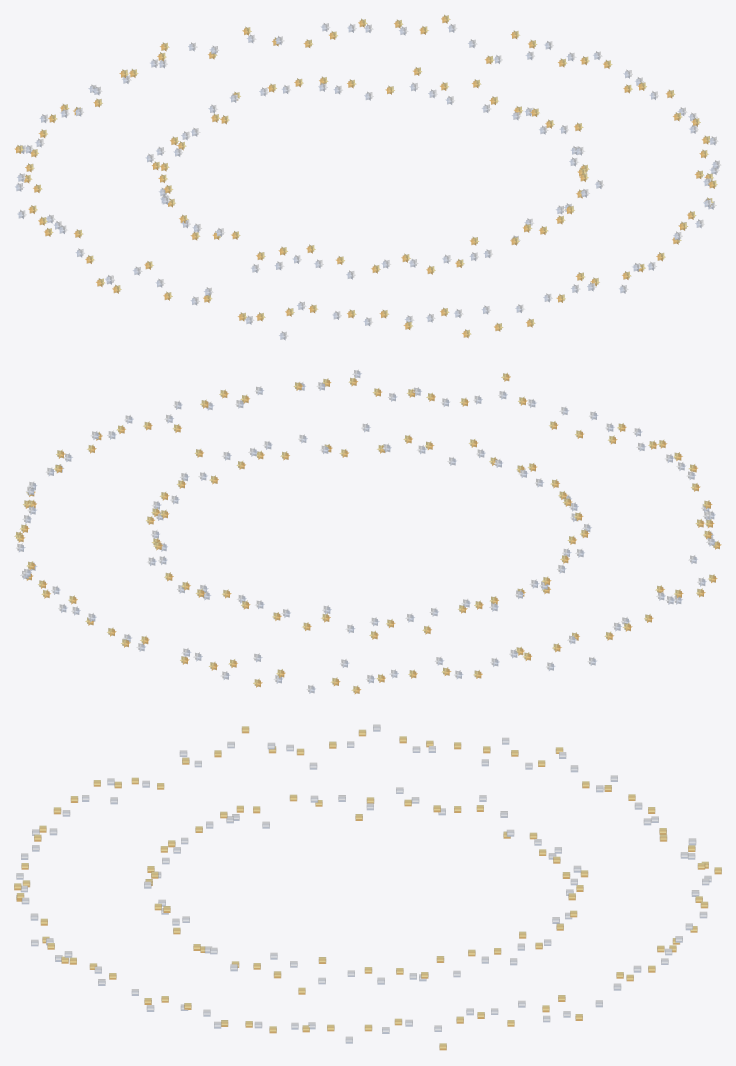
File: fw_ring_gold_red_c.glb
The picture shows the model from 3 angles, top to bottom: view 1: azimuth 30°, elevation 25°; view 2: azimuth 150°, elevation 25°; view 3: azimuth 270°, elevation 25°; orthographic projection.
Visible parts, largest first — view 1: spire; view 2: spire; view 3: spire.
Part boxes in pixels (bbox=[...]): spire: bbox=[14, 14, 721, 340]; spire: bbox=[14, 369, 721, 694]; spire: bbox=[14, 724, 721, 1050].
Size of the model in its own units: 22.25 by 1.71 by 22.48.
2 materials, 2 textured.
